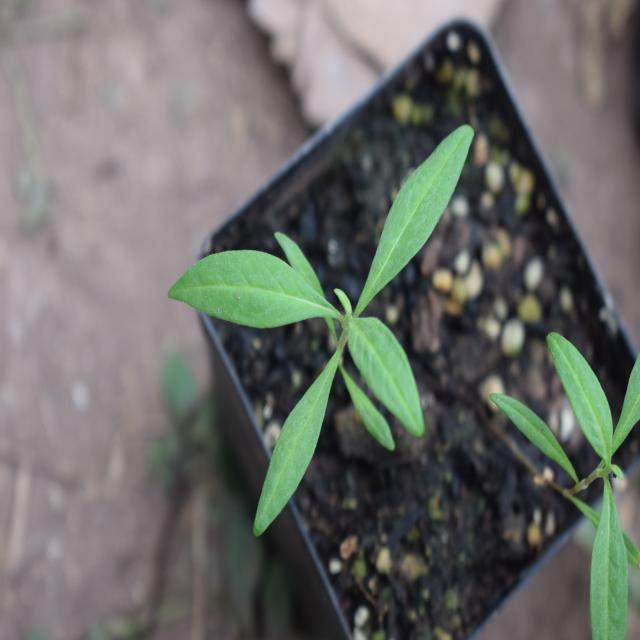white_smart_weed: (177, 106, 472, 514)
